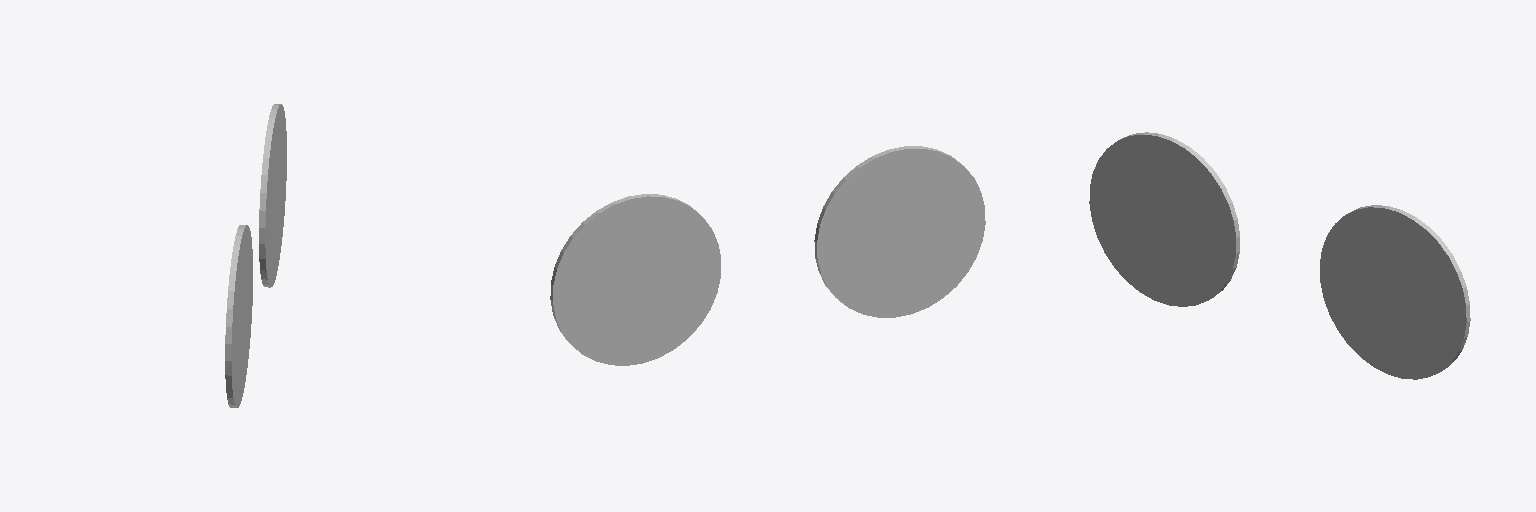
The model's file is Glasses_normalized.obj.
The picture shows the model from 3 angles: view 1: azimuth 30°, elevation 25°; view 2: azimuth 150°, elevation 25°; view 3: azimuth 270°, elevation 25°; orthographic projection.
Size of the model in its own units: 0.6268 by 0.4006 by 0.8323.